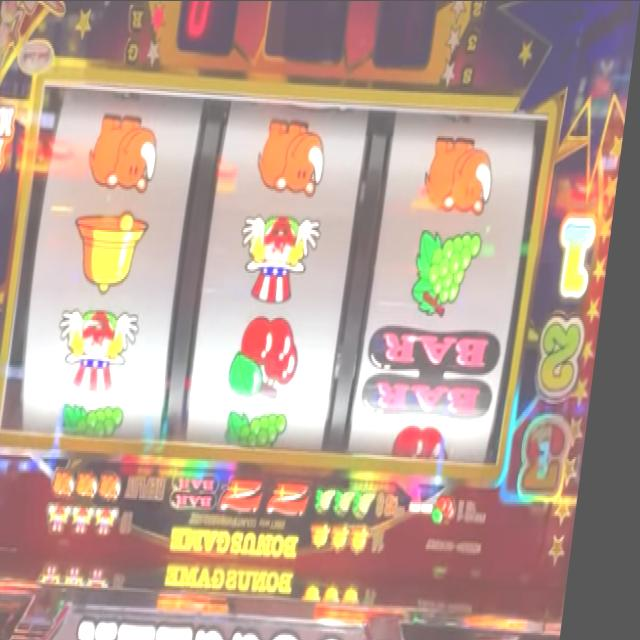bar: (369, 324, 511, 420), (179, 472, 233, 509)
bell: (72, 207, 157, 293), (319, 518, 346, 556), (358, 520, 386, 556), (341, 518, 365, 556)
cherry: (233, 314, 310, 400), (398, 427, 465, 461), (441, 492, 470, 528)
clown: (239, 212, 328, 304), (61, 306, 150, 394), (102, 500, 132, 540), (56, 498, 86, 534), (81, 502, 106, 532)
display: (7, 80, 549, 467)
elephant: (87, 111, 164, 196), (424, 133, 501, 216), (258, 115, 332, 198), (109, 467, 137, 502), (86, 466, 112, 500), (63, 466, 88, 498)
grape: (414, 228, 489, 318), (233, 411, 300, 449), (69, 398, 135, 436), (363, 487, 392, 519), (323, 482, 350, 516), (345, 484, 370, 514)
z: (232, 472, 276, 514), (278, 475, 324, 515)
